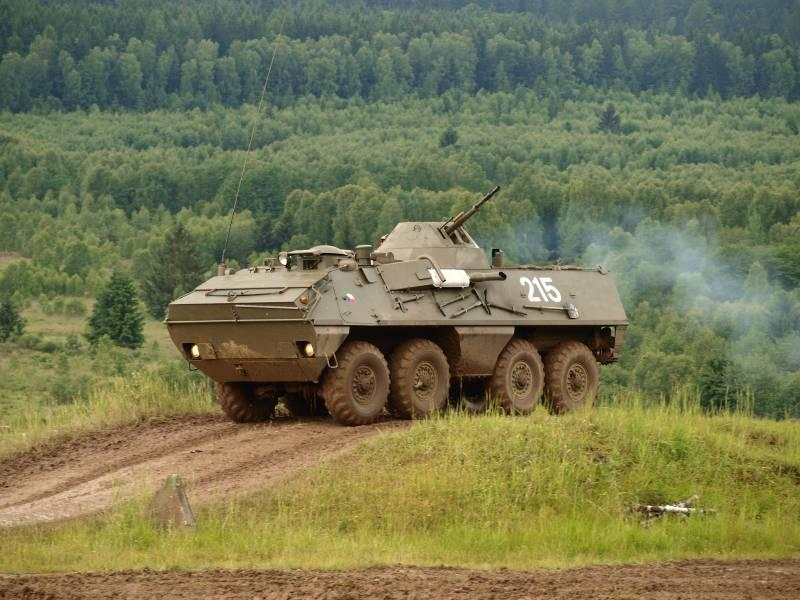tank: (162, 182, 632, 427)
